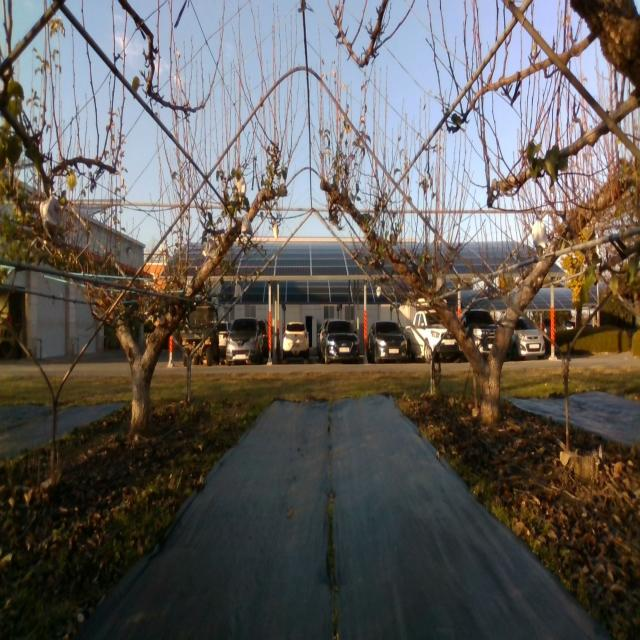pearbags: (40, 196, 61, 242), (532, 219, 548, 249), (206, 238, 217, 259), (237, 175, 247, 197), (241, 216, 252, 233)
